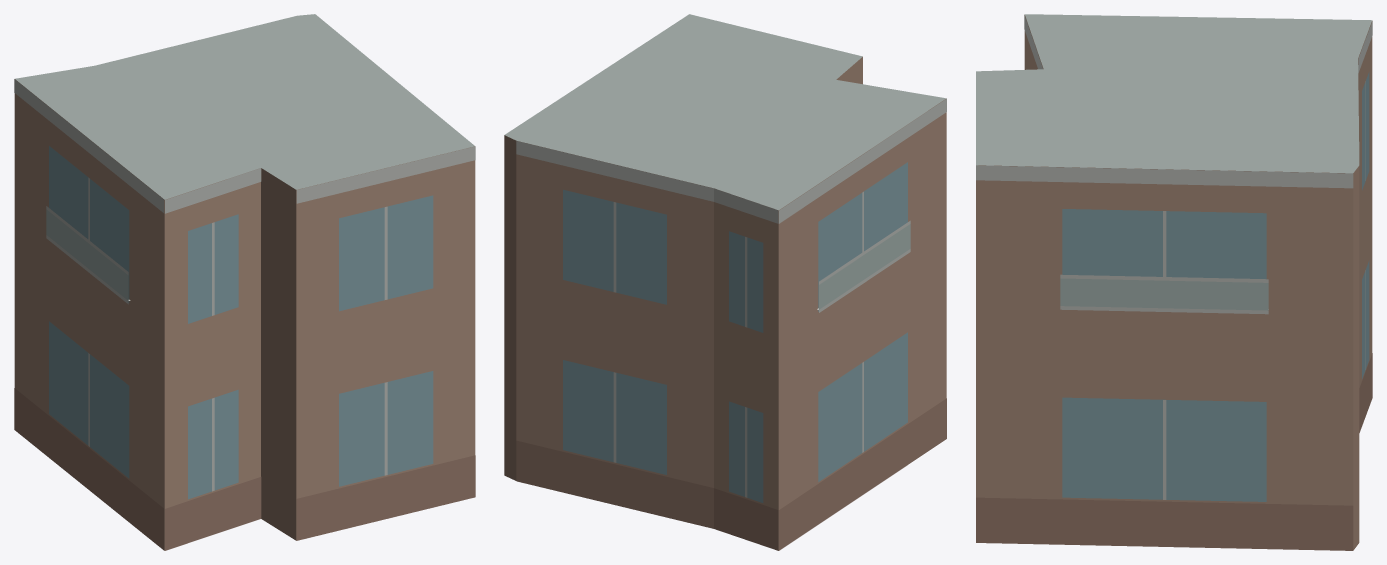
The model's file is survey-upis-32467517.glb.
The picture shows the model from 3 angles, left to right: view 1: azimuth 30°, elevation 25°; view 2: azimuth 150°, elevation 25°; view 3: azimuth 270°, elevation 25°; orthographic projection. The views are drawn at different scales.
Visible parts, largest first — view 1: survey-upis-32467517.tmp; view 2: survey-upis-32467517.tmp; view 3: survey-upis-32467517.tmp.
Part boxes in pixels (bbox=[...]): survey-upis-32467517.tmp: bbox=[14, 14, 475, 550]; survey-upis-32467517.tmp: bbox=[504, 14, 946, 550]; survey-upis-32467517.tmp: bbox=[976, 14, 1372, 550].
Bounding box in the file's own units: 5.53 × 6.1 × 5.82.
